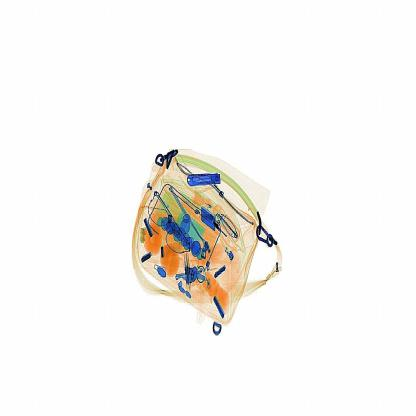knife: (181, 163, 230, 200)
